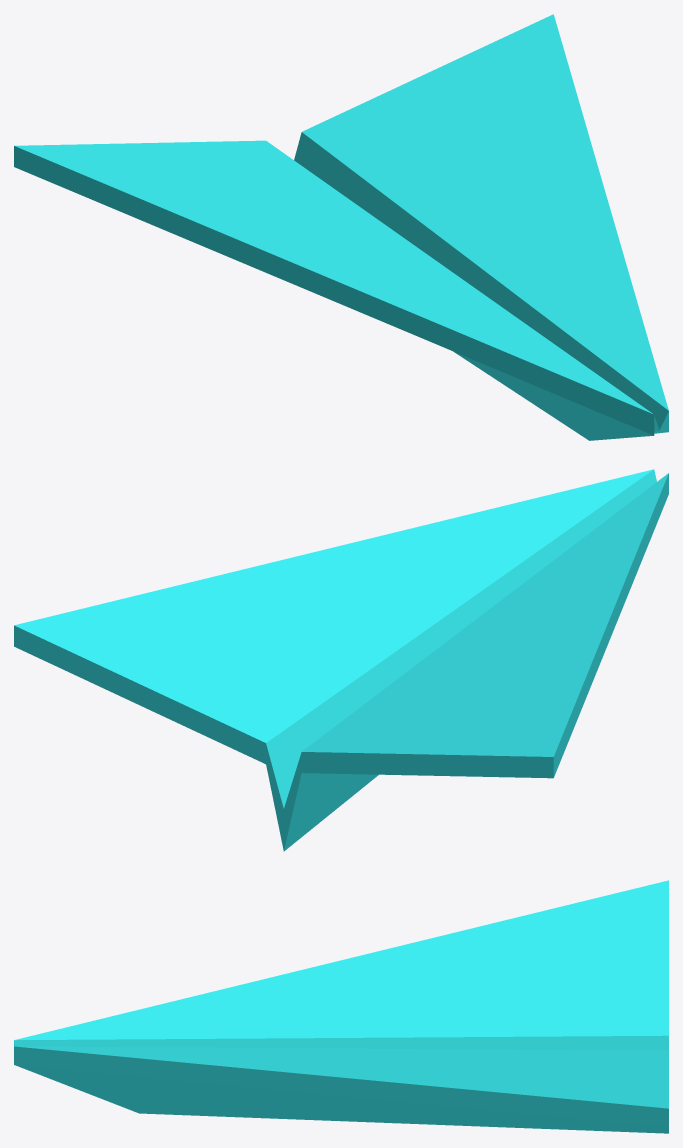
File: PaperPlaneTemp.fbx
3 renders of one model, top to bottom at view 1: azimuth 30°, elevation 25°; view 2: azimuth 150°, elevation 25°; view 3: azimuth 270°, elevation 25°, orthographic. The views are drawn at different scales.
Visible parts, largest first — view 1: Paper; view 2: Paper; view 3: Paper.
Part boxes in pixels (left/top/right/bottom): Paper: left=14, top=14, right=668, bottom=440; Paper: left=14, top=469, right=668, bottom=851; Paper: left=14, top=880, right=668, bottom=1133.
Bounding box in the file's own units: 200 × 56.85 × 242.
